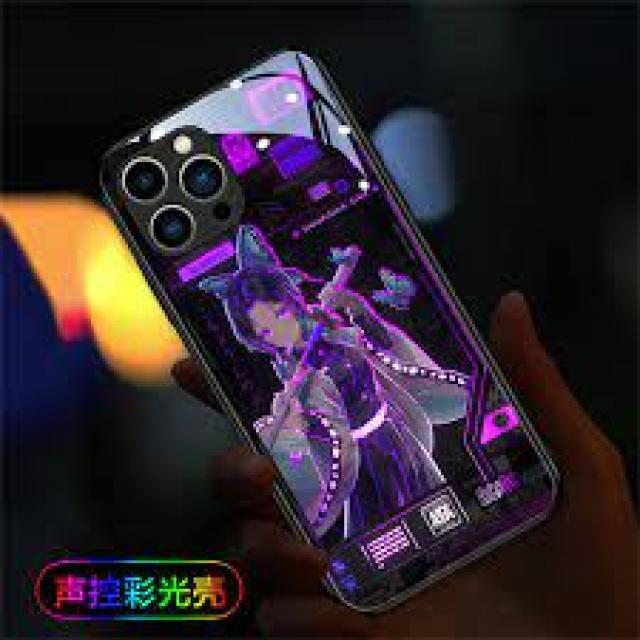phone: (104, 48, 565, 553)
